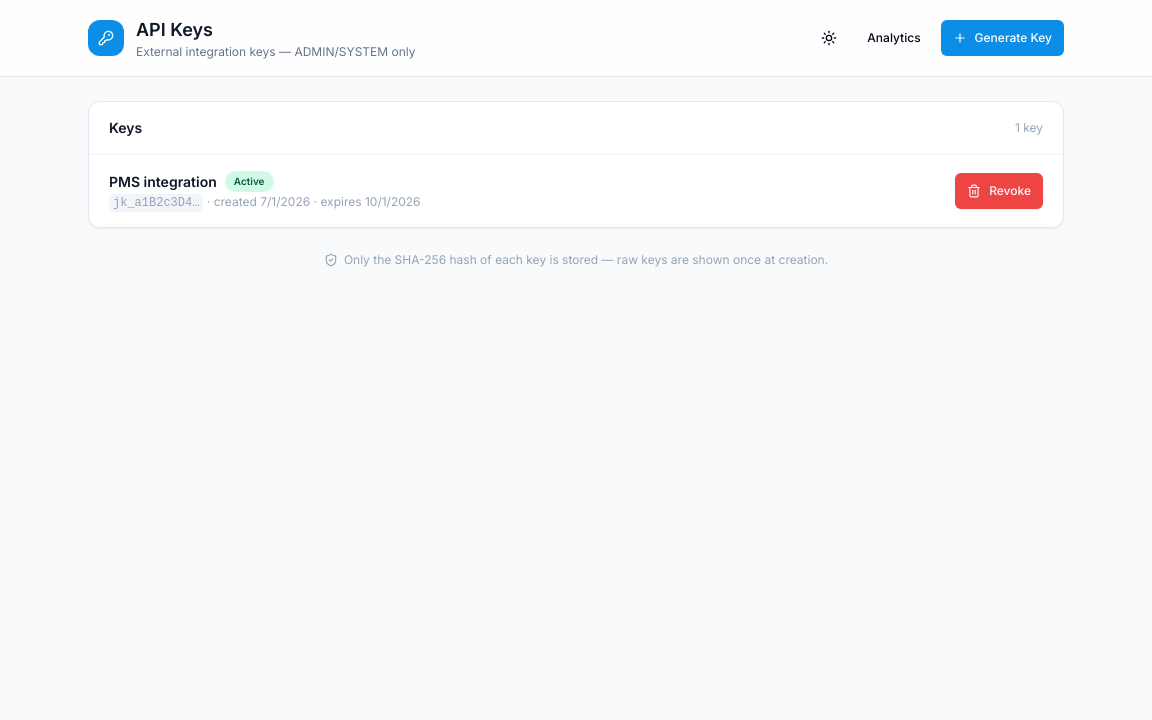
Test case: ApiKeysPage › rejects an invalid expiry value
This screenshot has width=1152, height=720.
Click the button "Generate Key".
click(1002, 38)  # box [941, 20, 1064, 56]
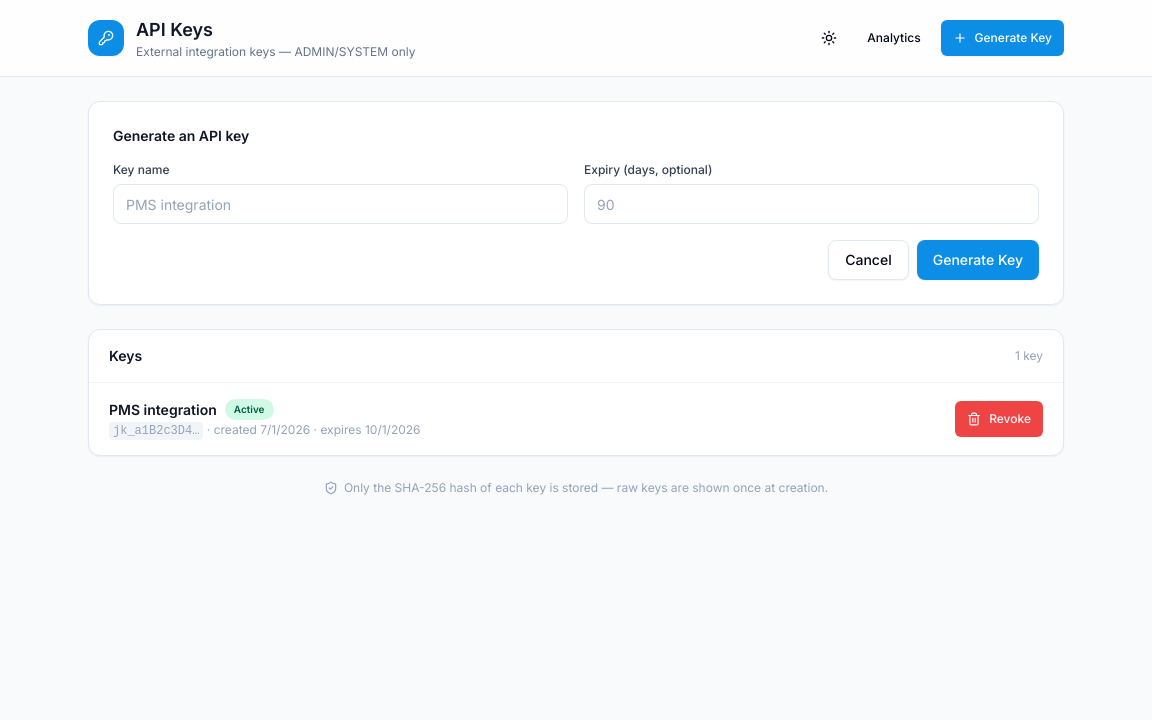
Type "X" into the field labelled "Key name".
click(340, 204); type("X")  # box [113, 184, 568, 224]
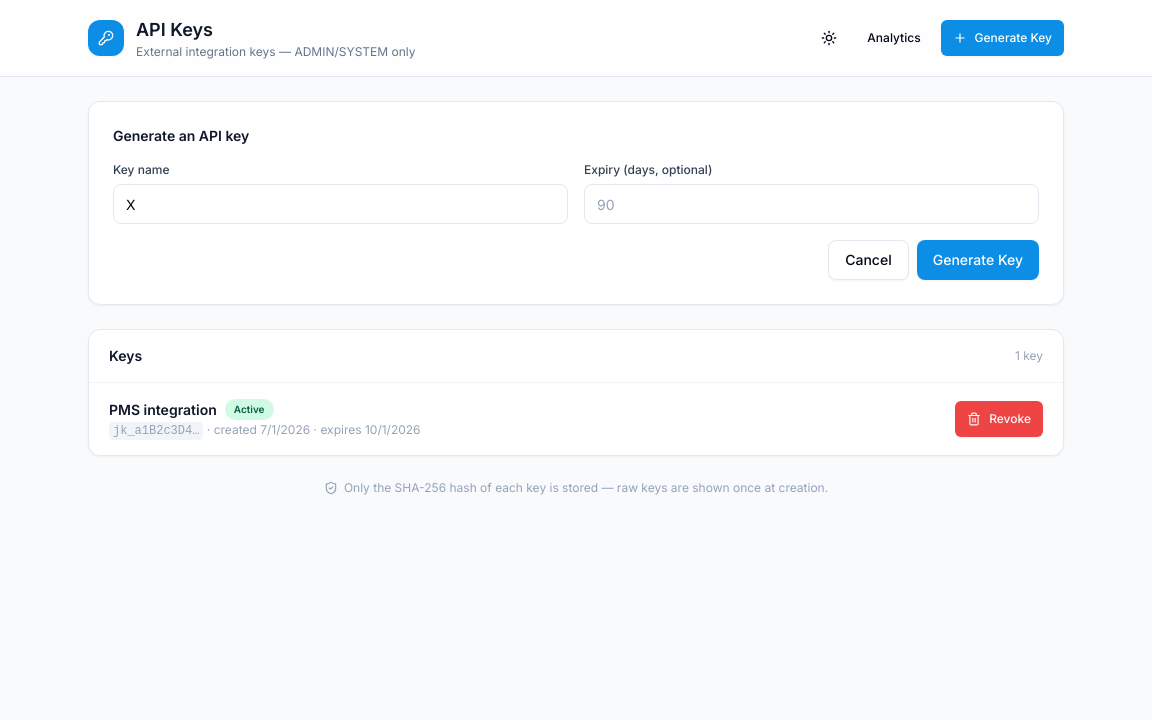
Type "999" into the number field labelled "Expiry (days, optional)".
click(812, 204); type("999")  # box [584, 184, 1039, 224]
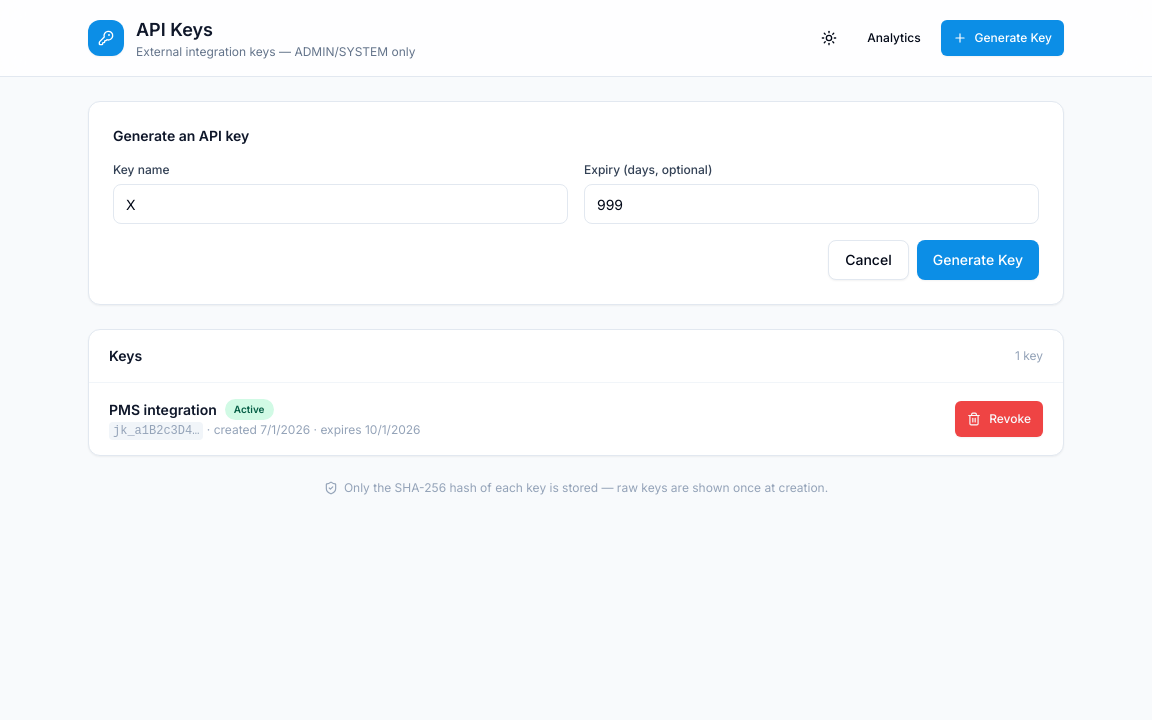
Click the button "Generate Key" below "Expiry (days, optional)".
click(978, 260)  # box [917, 240, 1039, 280]
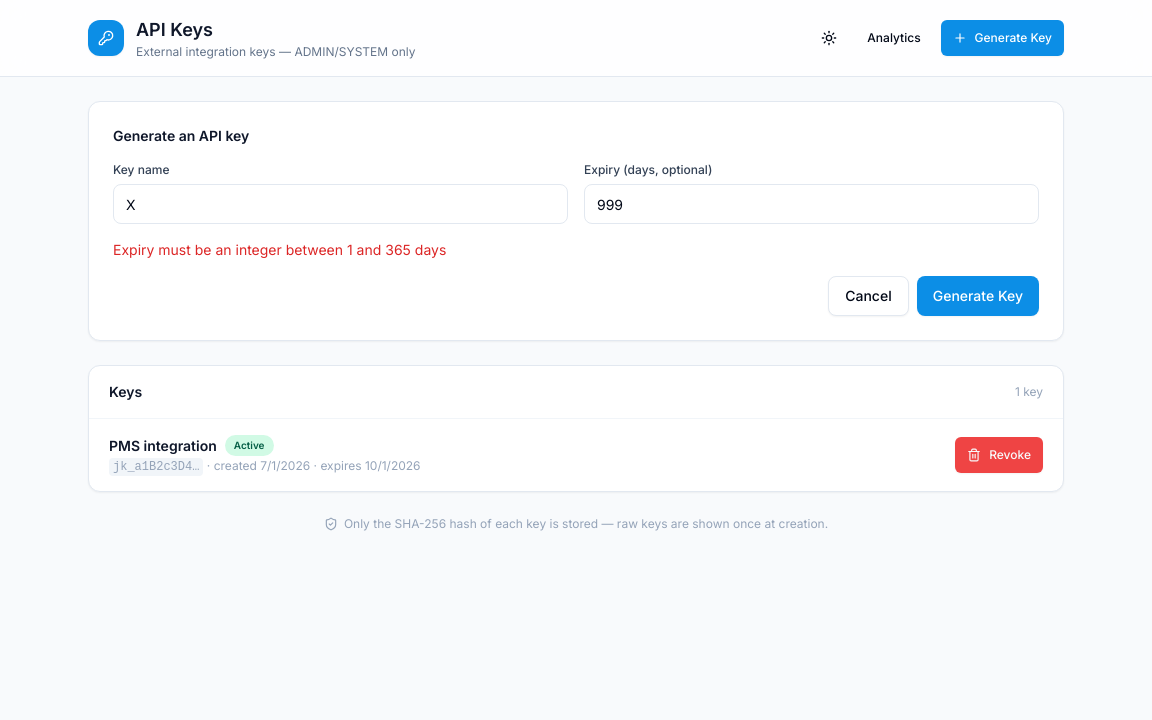
Expected: the text "Expiry must be an integer between 1 and 365 days" is shown, [113, 241, 446, 258]
